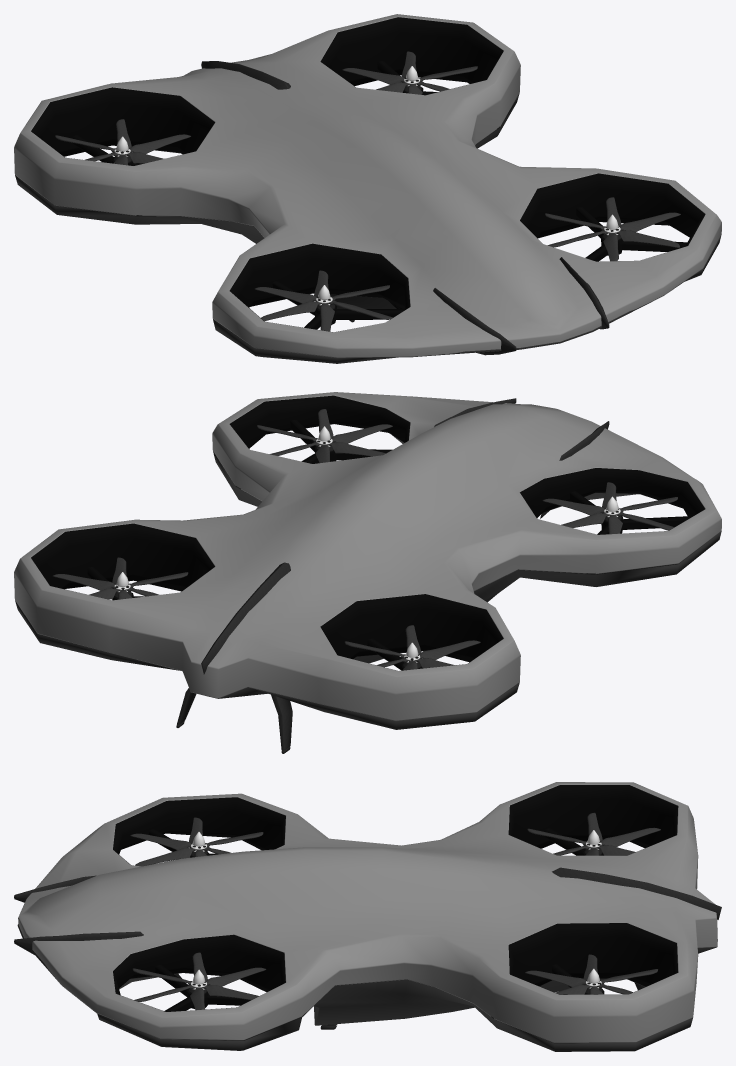
Rendered from drone.glb.
3 views of the same model, one above another, from view 1: azimuth 30°, elevation 25°; view 2: azimuth 150°, elevation 25°; view 3: azimuth 270°, elevation 25° (orthographic).
Parts seen in each view (by area): view 1: Drone Body_Top Metal, Drone Body_Rotor Encasing Plastic, Drone Body_Bottom Plastic, Rotor_CCW_01, Rotor_CW_01, Drone Parts_Fins and Stands, Rotor_CCW_02, Rotor_CW_02, Rotor_CCW_01 Mount, Rotor_CW_01 Mount; view 2: Drone Body_Top Metal, Drone Body_Rotor Encasing Plastic, Drone Body_Bottom Plastic, Drone Parts_Fins and Stands, Rotor_CW_01, Rotor_CCW_01, Rotor_CCW_02, Rotor_CW_02, Rotor_CW_01 Mount, Rotor_CCW_01 Mount; view 3: Drone Body_Top Metal, Drone Body_Rotor Encasing Plastic, Drone Body_Bottom Plastic, Drone Parts_Fins and Stands, Rotor_CCW_01, Rotor_CW_01, Rotor_CCW_02, Rotor_CW_02, Rotor_CCW_01 Mount.
Part boxes in pixels (box(x1,y1,x2,y2)): Drone Body_Top Metal: box(14, 14, 721, 357); Drone Body_Rotor Encasing Plastic: box(31, 17, 705, 331); Drone Body_Bottom Plastic: box(15, 79, 721, 363); Rotor_CCW_01: box(545, 197, 680, 261); Rotor_CW_01: box(254, 270, 392, 331); Drone Parts_Fins and Stands: box(201, 61, 609, 355); Rotor_CCW_02: box(55, 119, 190, 165); Rotor_CW_02: box(342, 51, 477, 94); Rotor_CCW_01 Mount: box(576, 207, 687, 261); Rotor_CW_01 Mount: box(272, 281, 405, 329); Drone Body_Top Metal: box(14, 392, 721, 720); Drone Body_Rotor Encasing Plastic: box(31, 395, 704, 670); Drone Body_Bottom Plastic: box(15, 428, 721, 729); Drone Parts_Fins and Stands: box(176, 398, 609, 753); Rotor_CW_01: box(542, 482, 677, 534); Rotor_CCW_01: box(257, 409, 392, 462); Rotor_CCW_02: box(344, 625, 480, 670); Rotor_CW_02: box(53, 557, 188, 599); Rotor_CW_01 Mount: box(570, 491, 691, 534); Rotor_CCW_01 Mount: box(290, 419, 392, 463); Drone Body_Top Metal: box(18, 782, 717, 1042); Drone Body_Rotor Encasing Plastic: box(113, 785, 678, 1011); Drone Body_Bottom Plastic: box(17, 924, 716, 1051); Drone Parts_Fins and Stands: box(14, 867, 721, 1029); Rotor_CCW_01: box(132, 952, 266, 1009); Rotor_CW_01: box(130, 817, 263, 866); Rotor_CCW_02: box(527, 812, 660, 855); Rotor_CW_02: box(525, 954, 658, 994); Rotor_CCW_01 Mount: box(155, 964, 250, 1011).
Size of the model in its own units: 0.3005 by 0.0984 by 0.4014.
15 materials, 2 textured.
